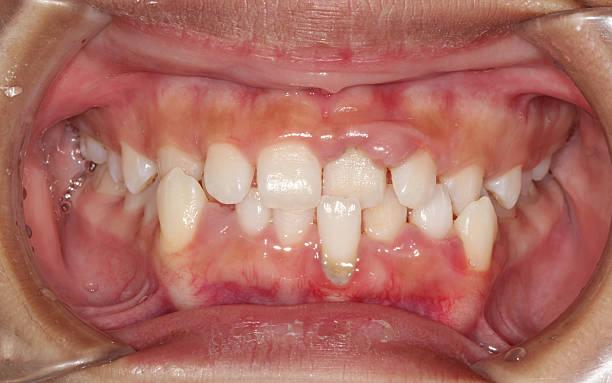Gingivitis: (298, 274, 466, 316), (183, 267, 290, 306)
